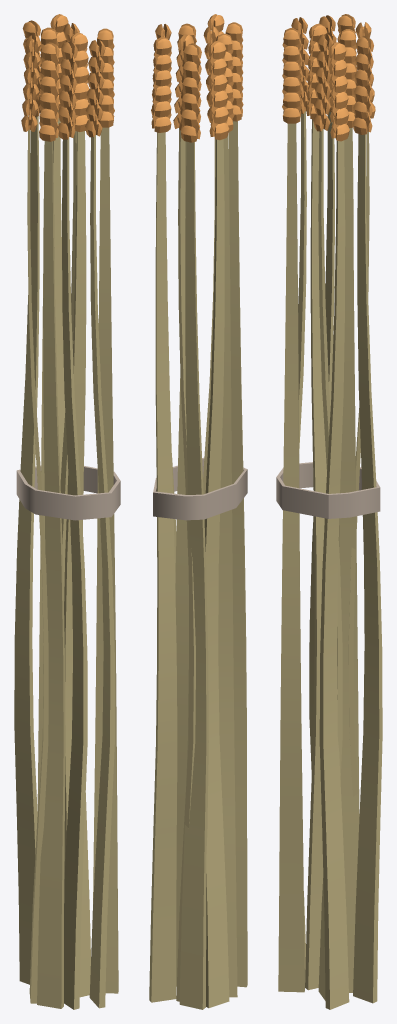
File: LongGrass.fbx
3 renders of one model, left to right at view 1: azimuth 90°, elevation 25°; view 2: azimuth 150°, elevation 25°; view 3: azimuth 270°, elevation 25°, orthographic.
Parts seen in each view (by area): view 1: LongGrass; view 2: LongGrass; view 3: LongGrass.
Boxes of the visible parts, box(x1,y1,x2,y2) form: LongGrass: box(14, 14, 120, 1009); LongGrass: box(149, 14, 247, 1009); LongGrass: box(276, 14, 382, 1009).
Size of the model in its own units: 24.46 by 282 by 28.19.
